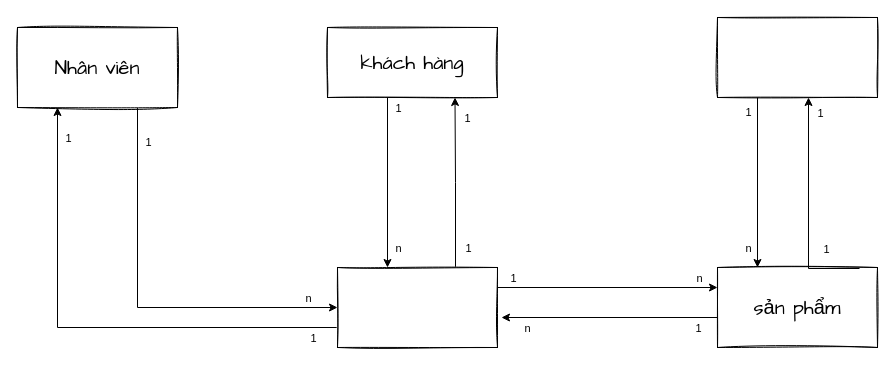
This 895x365 diagram has some shape labels left out. Here are the shapes that lost their labels. From the top down, the box of each, then its label:
(716, 16, 878, 98): thể loại
(336, 266, 498, 348): hóa đơn
